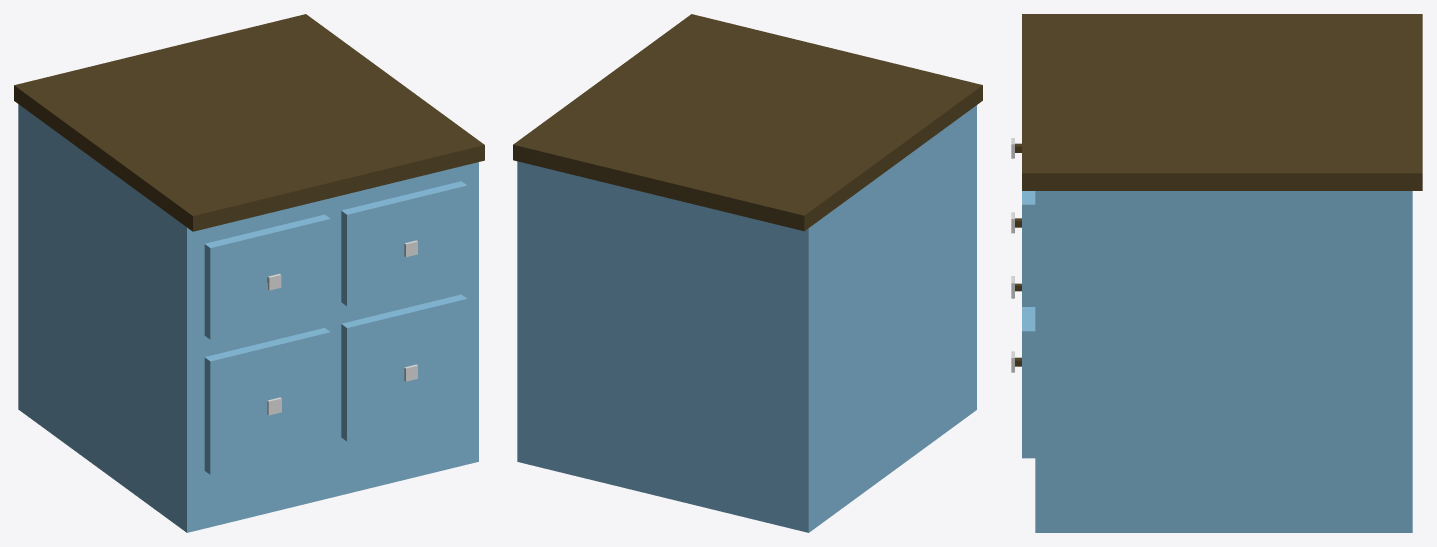
Rendered from comptoir.fbx.
3 renders of one model, left to right at view 1: azimuth 30°, elevation 25°; view 2: azimuth 150°, elevation 25°; view 3: azimuth 270°, elevation 25°, orthographic. The views are drawn at different scales.
Visible parts, largest first — view 1: ContoirMesh; view 2: ContoirMesh; view 3: ContoirMesh.
Part boxes in pixels (box(x1,y1,x2,y2)): ContoirMesh: box(14, 14, 484, 532); ContoirMesh: box(513, 14, 982, 532); ContoirMesh: box(1011, 14, 1422, 532).
Bounding box in the file's own units: 100 × 105 × 109.
